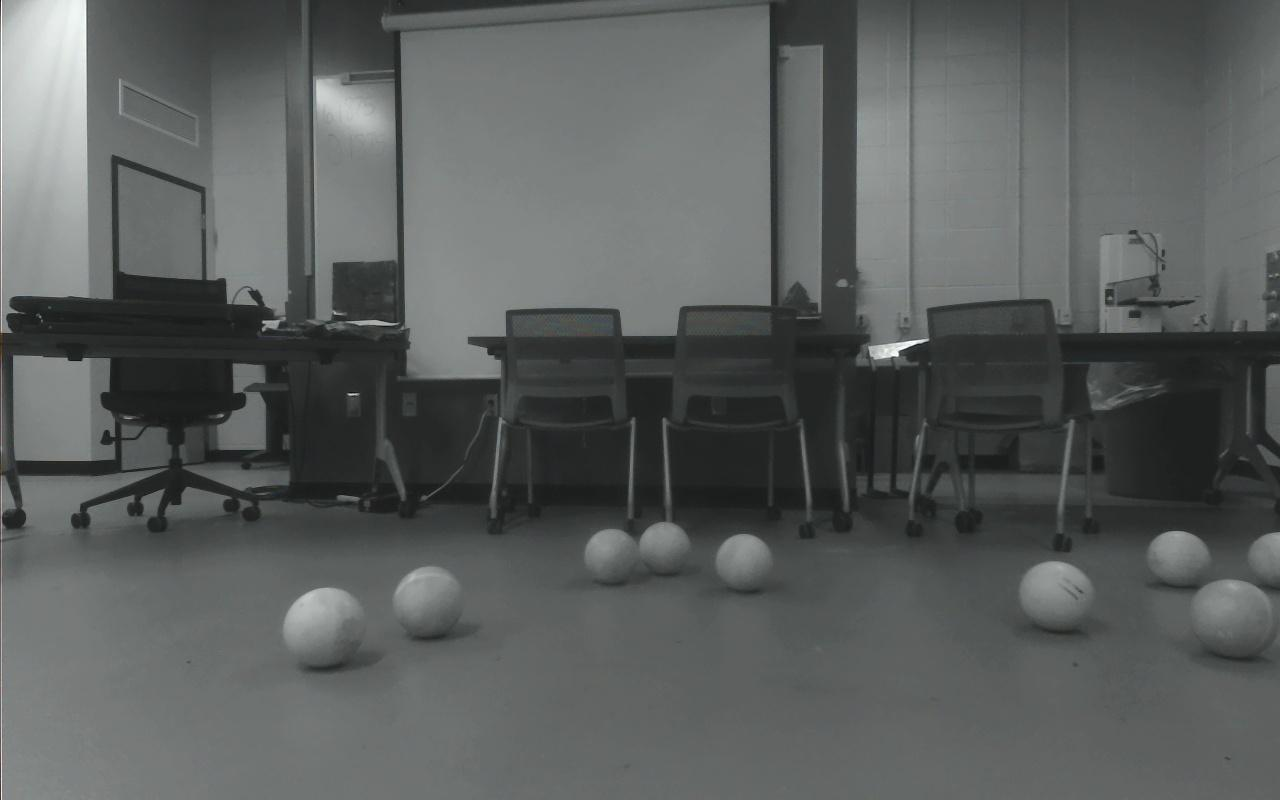Fuel: (1189, 578, 1277, 658), (283, 586, 366, 669), (1020, 561, 1094, 632), (393, 566, 463, 639), (1146, 530, 1212, 587), (716, 533, 774, 591), (584, 527, 640, 585), (639, 522, 691, 574), (1247, 531, 1280, 589)
